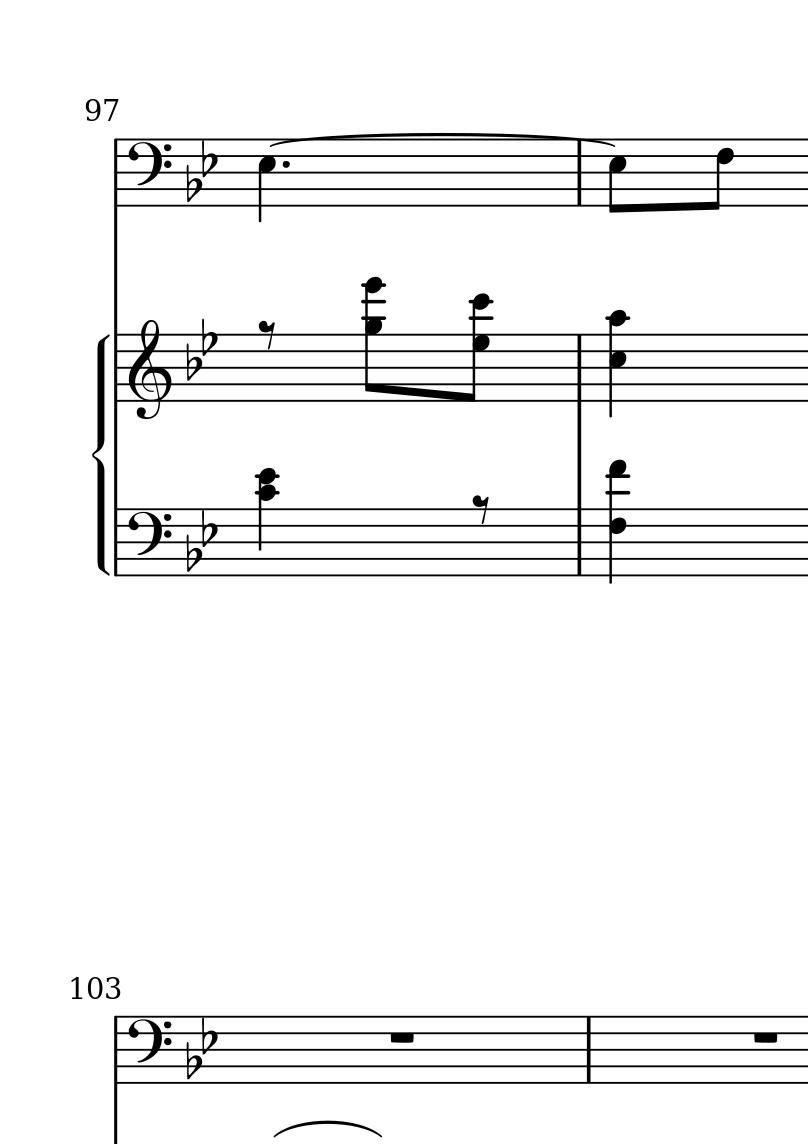0: (87, 974, 103, 1001)
1: (70, 975, 84, 1001)
3: (105, 975, 121, 1003)
4_5: (257, 138, 276, 224)
4_5_10: (603, 308, 631, 418)
7: (102, 96, 119, 124)
8_10_12: (254, 466, 280, 578)
8_11_14: (359, 275, 388, 404)
8_5: (608, 138, 627, 215)
8_6: (709, 137, 735, 212)
8_6_13: (605, 457, 630, 585)
8_7_12: (459, 291, 495, 403)
9: (84, 96, 101, 124)
B_F: (184, 1012, 220, 1083), (185, 140, 219, 204), (184, 318, 216, 379), (187, 508, 217, 573)
Brace: (91, 331, 110, 574)
Fclef: (122, 136, 174, 208), (125, 1014, 175, 1085), (126, 507, 174, 578)
Gclef: (126, 316, 175, 423)
Rests1: (747, 1026, 785, 1049), (386, 1028, 419, 1047)
Rests8: (256, 316, 279, 350), (469, 491, 492, 525)
Single_barline: (570, 334, 591, 402), (569, 141, 590, 206), (579, 1016, 598, 1082), (571, 507, 589, 576), (108, 1015, 125, 1084), (110, 333, 127, 402), (110, 509, 127, 576), (108, 138, 124, 206)
Slur: (270, 131, 617, 147)
dot: (279, 158, 293, 171)
